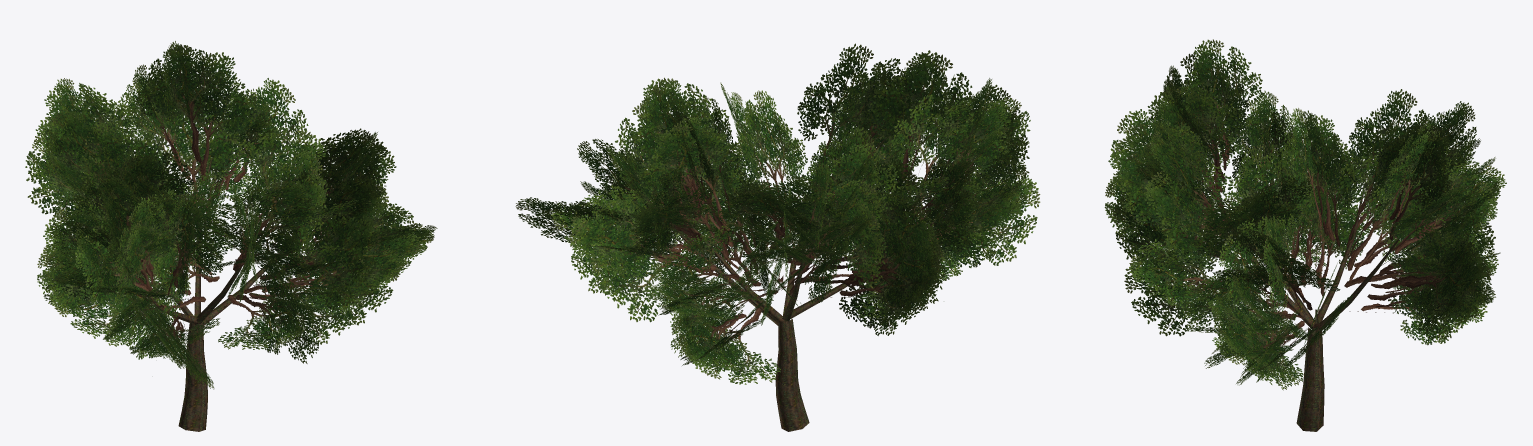
File: swamp_a_lod1.glb
The picture shows the model from 3 angles, left to right: view 1: azimuth 30°, elevation 25°; view 2: azimuth 150°, elevation 25°; view 3: azimuth 270°, elevation 25°; orthographic projection. The views are drawn at different scales.
Visible parts, largest first — view 1: swamp_a_lod1; view 2: swamp_a_lod1; view 3: swamp_a_lod1.
Boxes of the visible parts, <box> form: swamp_a_lod1: <box>25,41,437,431</box>; swamp_a_lod1: <box>515,43,1040,431</box>; swamp_a_lod1: <box>1104,39,1506,431</box>.
Size of the model in its own units: 76.22 by 66.4 by 74.97.
Materials: 2 (2 with a texture image).
